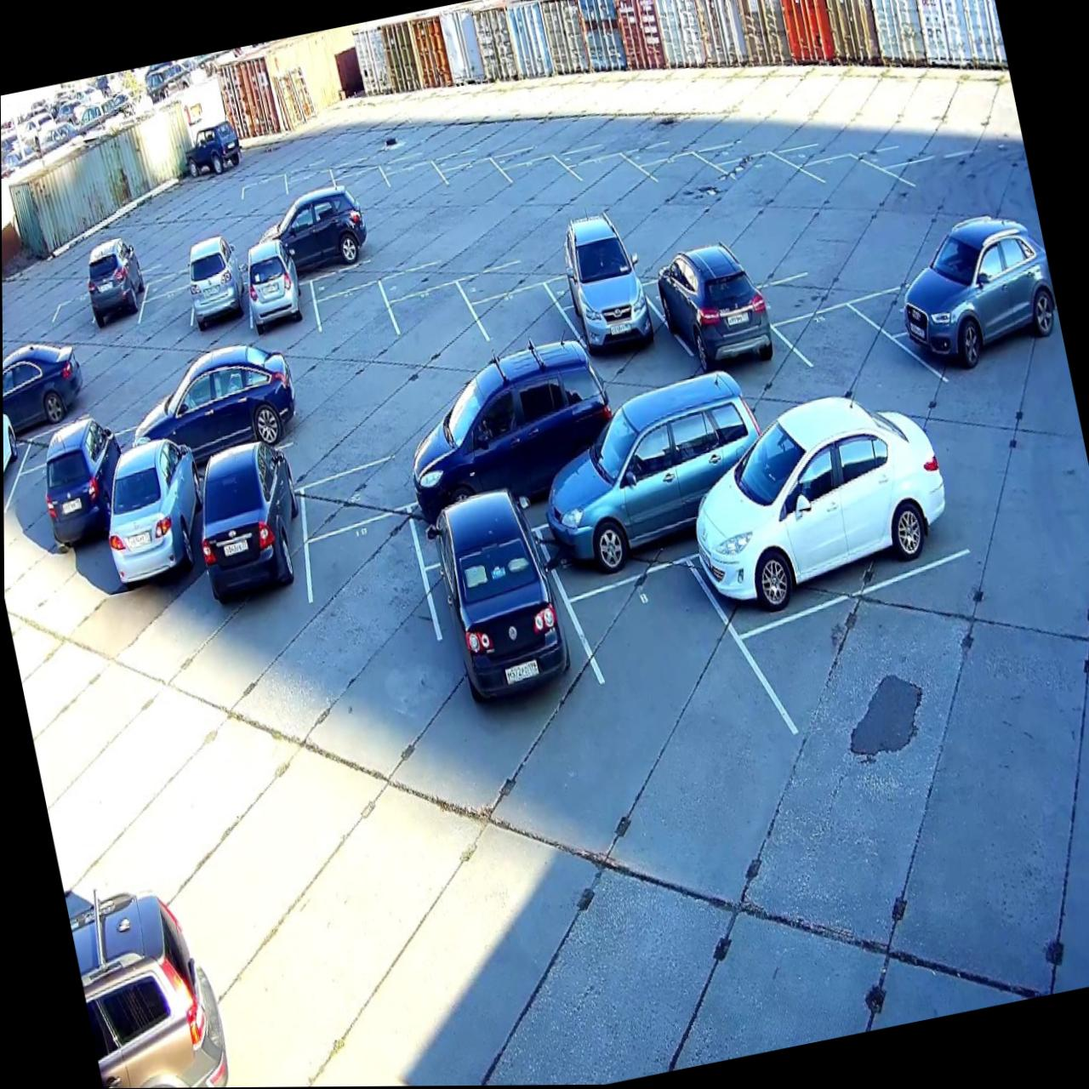cars: (695, 418, 961, 601), (426, 488, 580, 743), (537, 417, 753, 585), (395, 379, 611, 546), (90, 439, 227, 606), (193, 470, 318, 644), (556, 216, 684, 384), (915, 261, 1058, 403), (663, 250, 773, 396), (135, 365, 290, 456), (50, 428, 151, 566), (235, 199, 362, 292), (240, 244, 325, 377), (2, 335, 83, 432), (184, 240, 253, 353), (85, 244, 148, 359), (3, 423, 35, 536)
empty: (739, 541, 1042, 757), (562, 512, 783, 802), (289, 508, 444, 709), (299, 435, 483, 541), (782, 300, 899, 439), (631, 216, 771, 311), (749, 236, 886, 328), (251, 407, 384, 488), (537, 224, 659, 305), (459, 229, 574, 314), (473, 279, 576, 372), (299, 227, 422, 300), (3, 439, 72, 564), (387, 276, 478, 370), (312, 280, 398, 378), (861, 111, 983, 176), (382, 229, 499, 295), (614, 106, 733, 170), (727, 146, 814, 231), (903, 148, 1014, 214), (17, 397, 115, 471), (861, 244, 936, 338), (775, 119, 883, 178), (807, 150, 894, 222), (558, 113, 664, 170), (494, 148, 583, 215), (638, 150, 731, 212), (487, 111, 589, 167), (436, 151, 512, 226), (695, 113, 795, 166), (133, 264, 199, 338), (376, 155, 445, 218), (574, 149, 648, 204), (236, 168, 294, 232), (55, 288, 108, 355), (330, 163, 388, 210), (285, 168, 339, 216)
